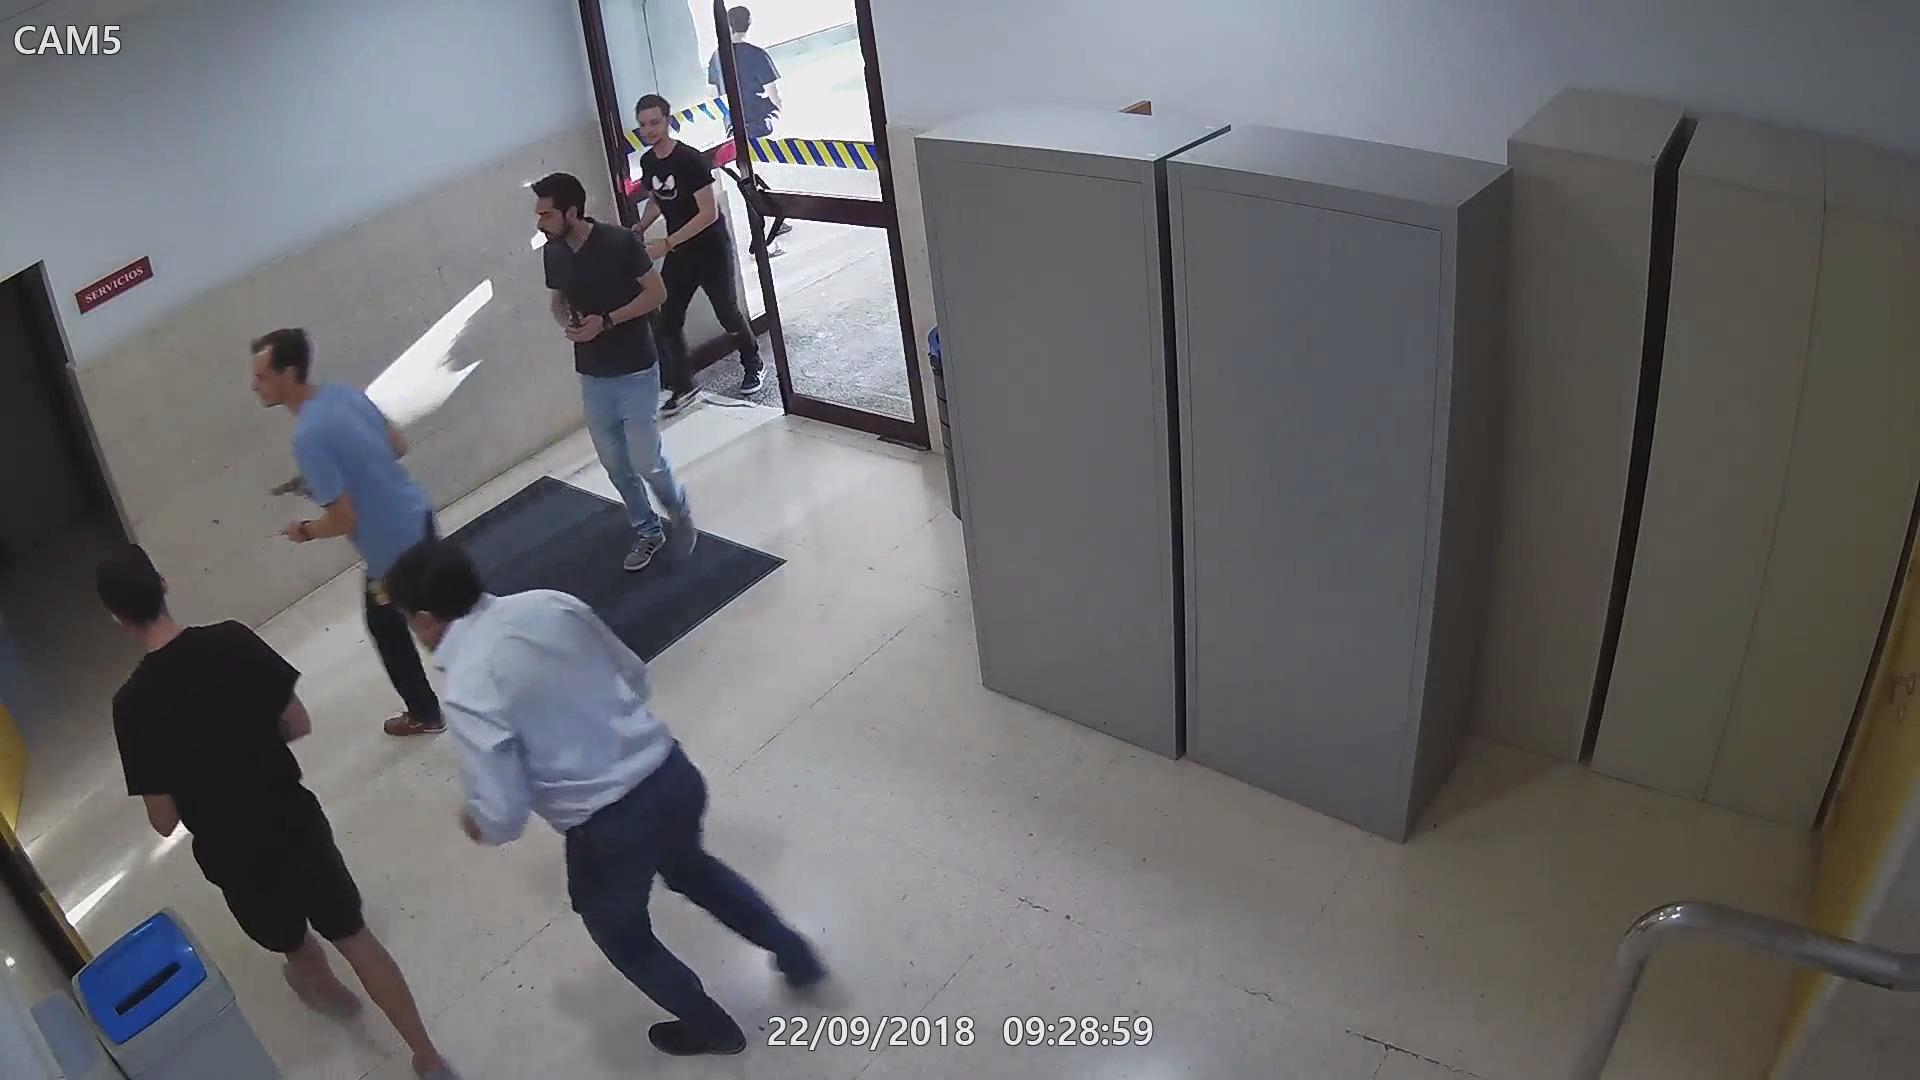Handgun: (265, 469, 311, 509), (555, 301, 589, 343)
